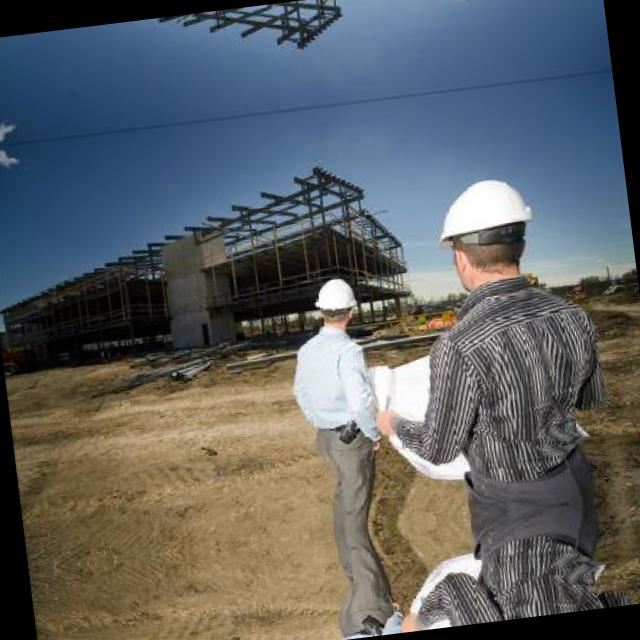helmet: (422, 161, 543, 293), (307, 263, 363, 339), (399, 0, 510, 13)
